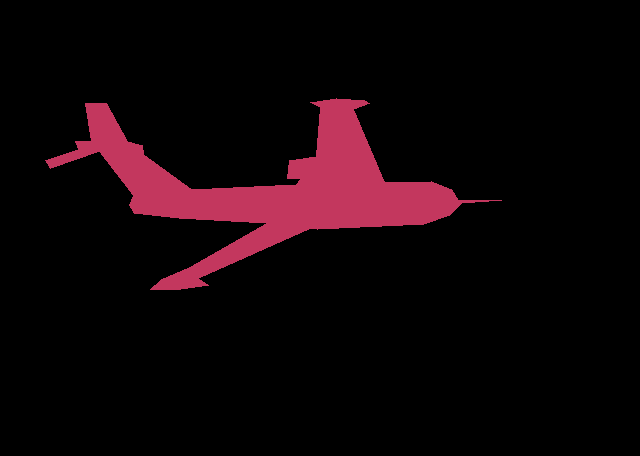Airplane: (45, 98, 502, 290)
